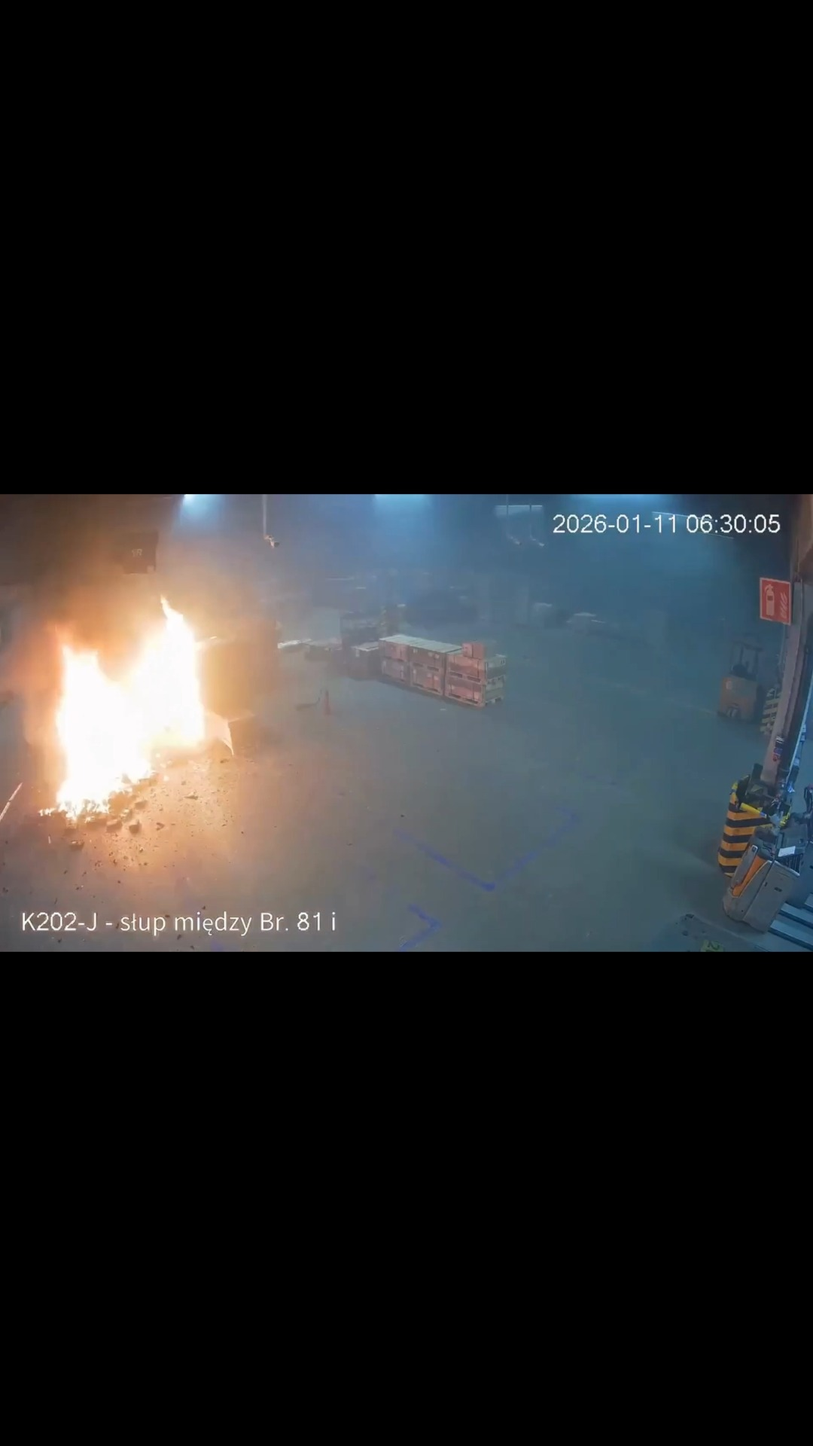fire: (43, 591, 212, 823)
smoke: (0, 497, 357, 719)
